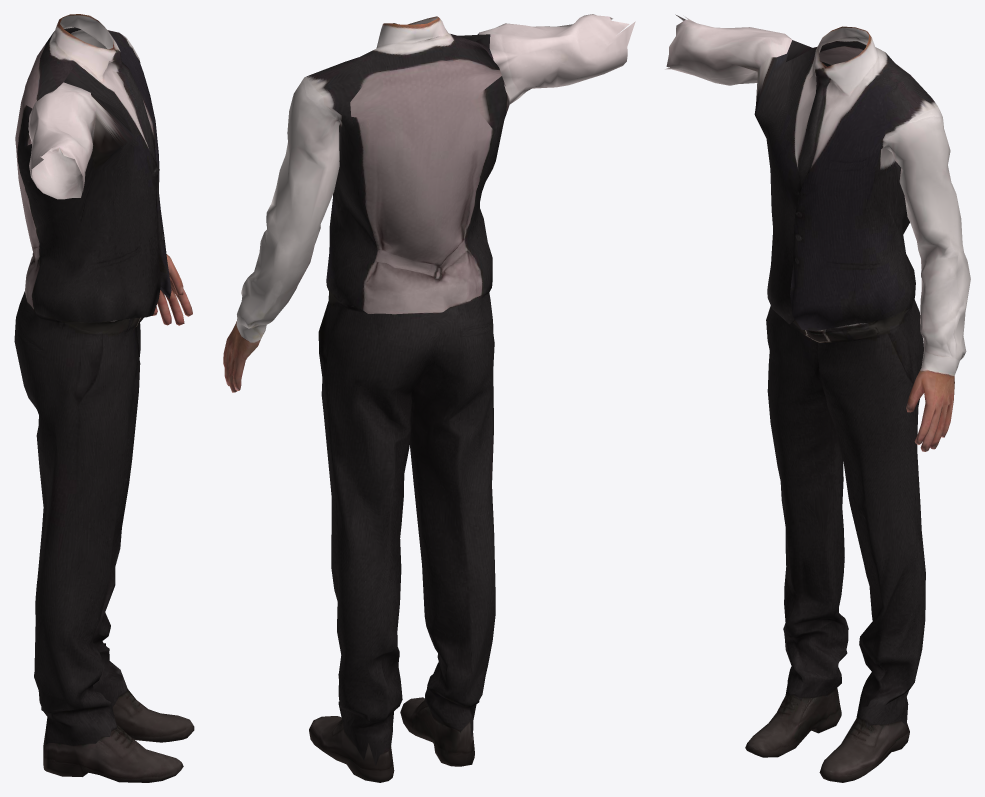
Rendered from cuerpo.obj.
3 views of the same model, side by side, from view 1: azimuth 30°, elevation 25°; view 2: azimuth 150°, elevation 25°; view 3: azimuth 270°, elevation 25° (orthographic). The views are drawn at different scales.
Visible parts, largest first — view 1: cuerpo; view 2: cuerpo; view 3: cuerpo.
Part boxes in pixels (<box>): cuerpo: <box>14,14,194,782</box>; cuerpo: <box>223,14,635,782</box>; cuerpo: <box>665,14,970,782</box>.
Bounding box in the file's own units: 11.35 × 28.66 × 11.34.
Materials: 1 (1 with a texture image).
